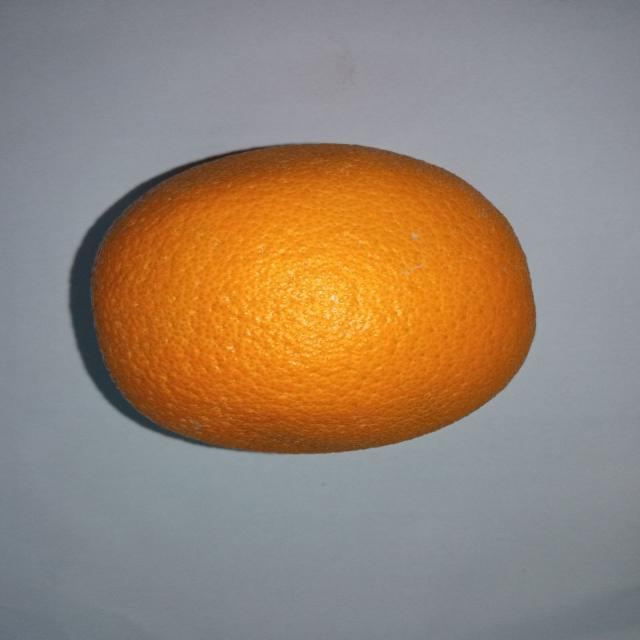fresh_orange: (92, 143, 538, 453)
